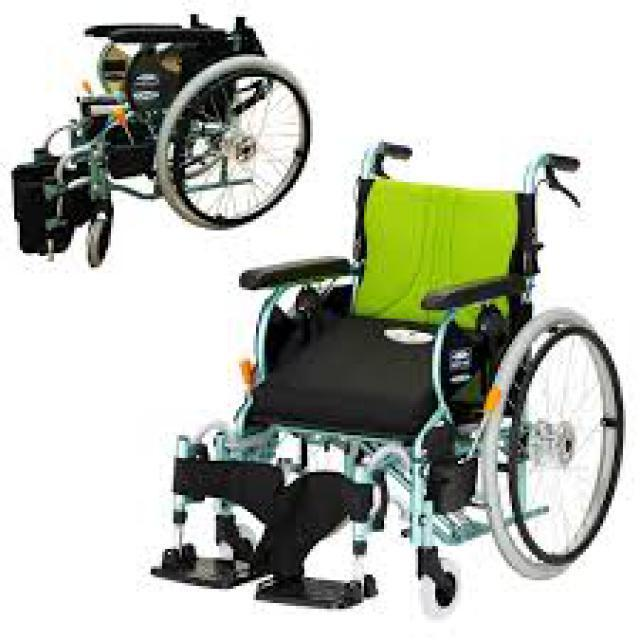wheelchairs: (173, 134, 618, 616)
